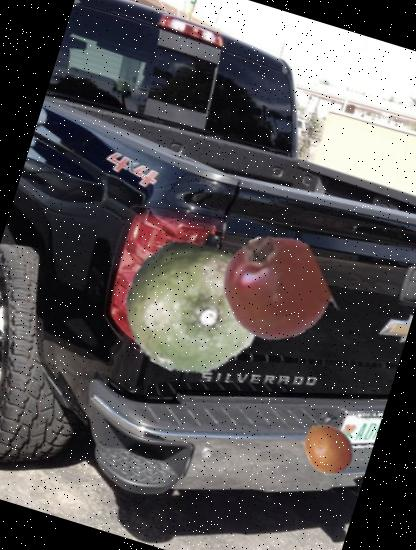Limes: (108, 216, 284, 393)
Redcurrant: (210, 221, 342, 353)
Tangelo: (294, 414, 362, 482)
